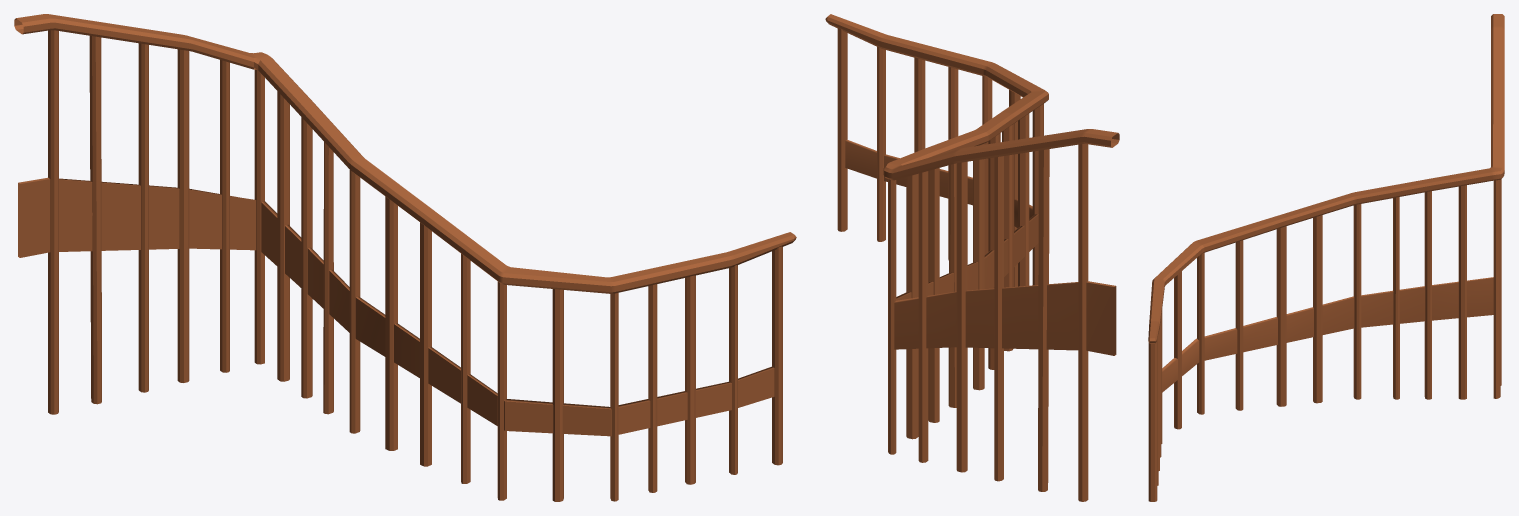
File: GR Rail.fbx
The picture shows the model from 3 angles, left to right: view 1: azimuth 30°, elevation 25°; view 2: azimuth 150°, elevation 25°; view 3: azimuth 270°, elevation 25°; orthographic projection. The views are drawn at different scales.
Parts seen in each view (by area): view 1: Rail; view 2: Rail; view 3: Rail.
Boxes of the visible parts, x1,y1,x2,y2 form: Rail: (14, 14, 796, 501); Rail: (825, 14, 1119, 501); Rail: (1148, 14, 1504, 501).
Bounding box in the file's own units: 159 × 112 × 122.
